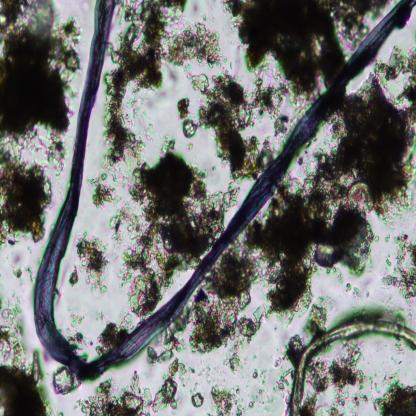Background material: (114, 151, 237, 310), (246, 179, 370, 308), (319, 58, 416, 220), (0, 0, 81, 136), (104, 7, 169, 162), (226, 7, 340, 86), (192, 72, 271, 178), (189, 252, 267, 350), (0, 137, 52, 240), (305, 352, 373, 414), (78, 372, 154, 414), (167, 16, 228, 68), (0, 298, 34, 374), (0, 363, 47, 415), (145, 311, 191, 363), (383, 232, 416, 303), (253, 77, 288, 137), (76, 230, 108, 294), (94, 305, 133, 354), (373, 370, 416, 414), (242, 359, 278, 411), (336, 8, 382, 47), (154, 356, 186, 411), (90, 165, 126, 209), (379, 43, 416, 82), (37, 136, 69, 177), (172, 98, 200, 140), (209, 381, 243, 415), (64, 312, 92, 351), (162, 62, 186, 104), (52, 366, 80, 398), (9, 247, 35, 281), (286, 332, 304, 366), (342, 275, 366, 299), (276, 352, 290, 392), (185, 365, 212, 381), (224, 352, 242, 374), (68, 265, 79, 287), (188, 392, 204, 407), (372, 232, 382, 246)
Cellulose filter fibre: (288, 316, 416, 414)
Cotton: (33, 1, 416, 380)
Diatom: (348, 178, 376, 215)
